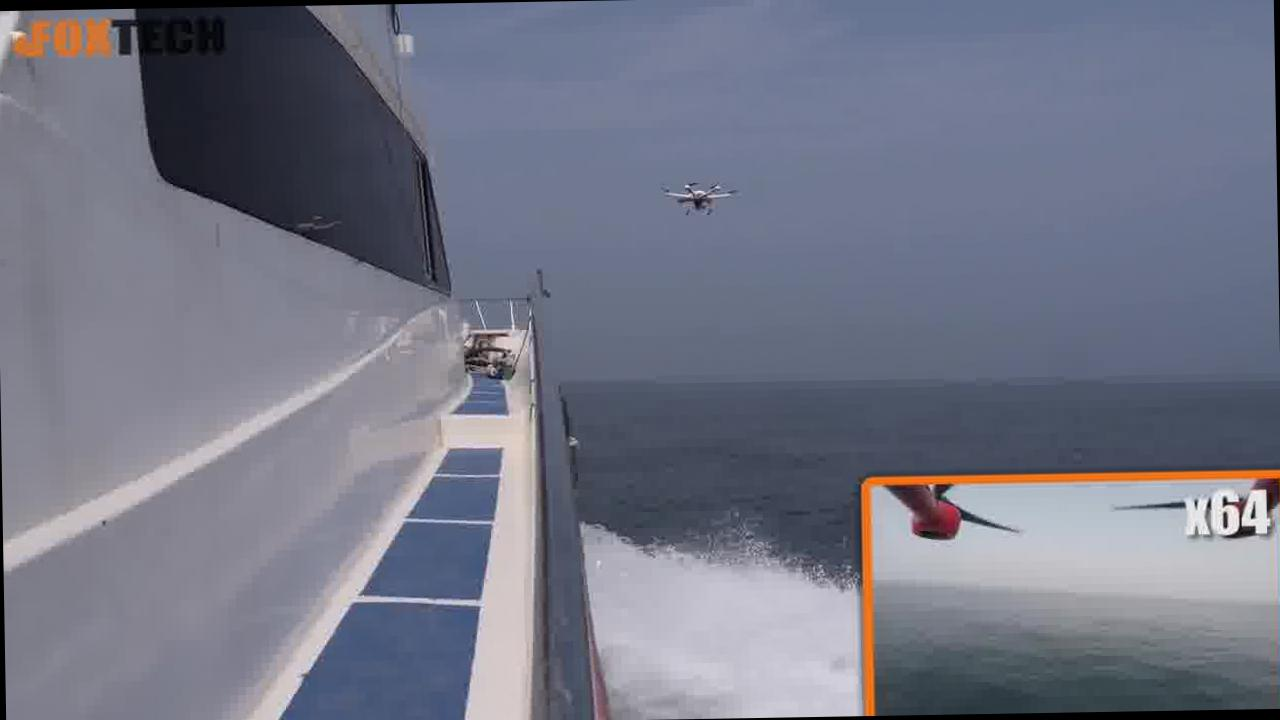drone: (624, 159, 740, 241)
